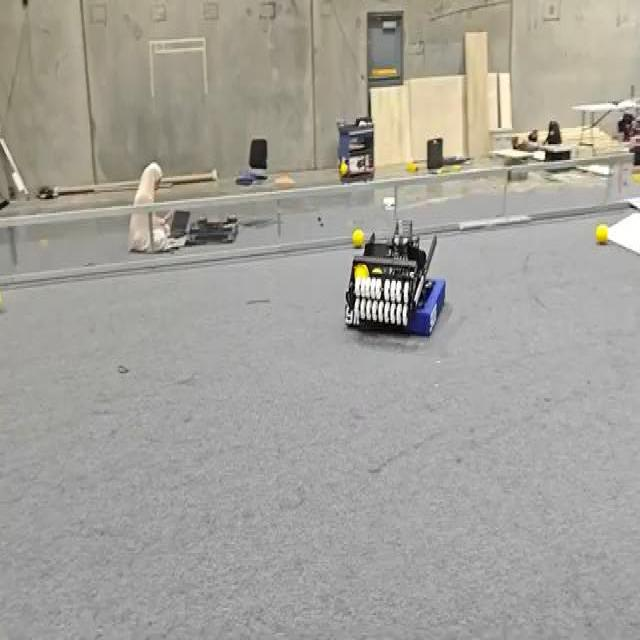Fuel: (595, 224, 607, 244), (595, 223, 607, 243), (352, 228, 364, 247), (354, 263, 368, 277), (340, 162, 348, 175), (340, 162, 347, 176)
